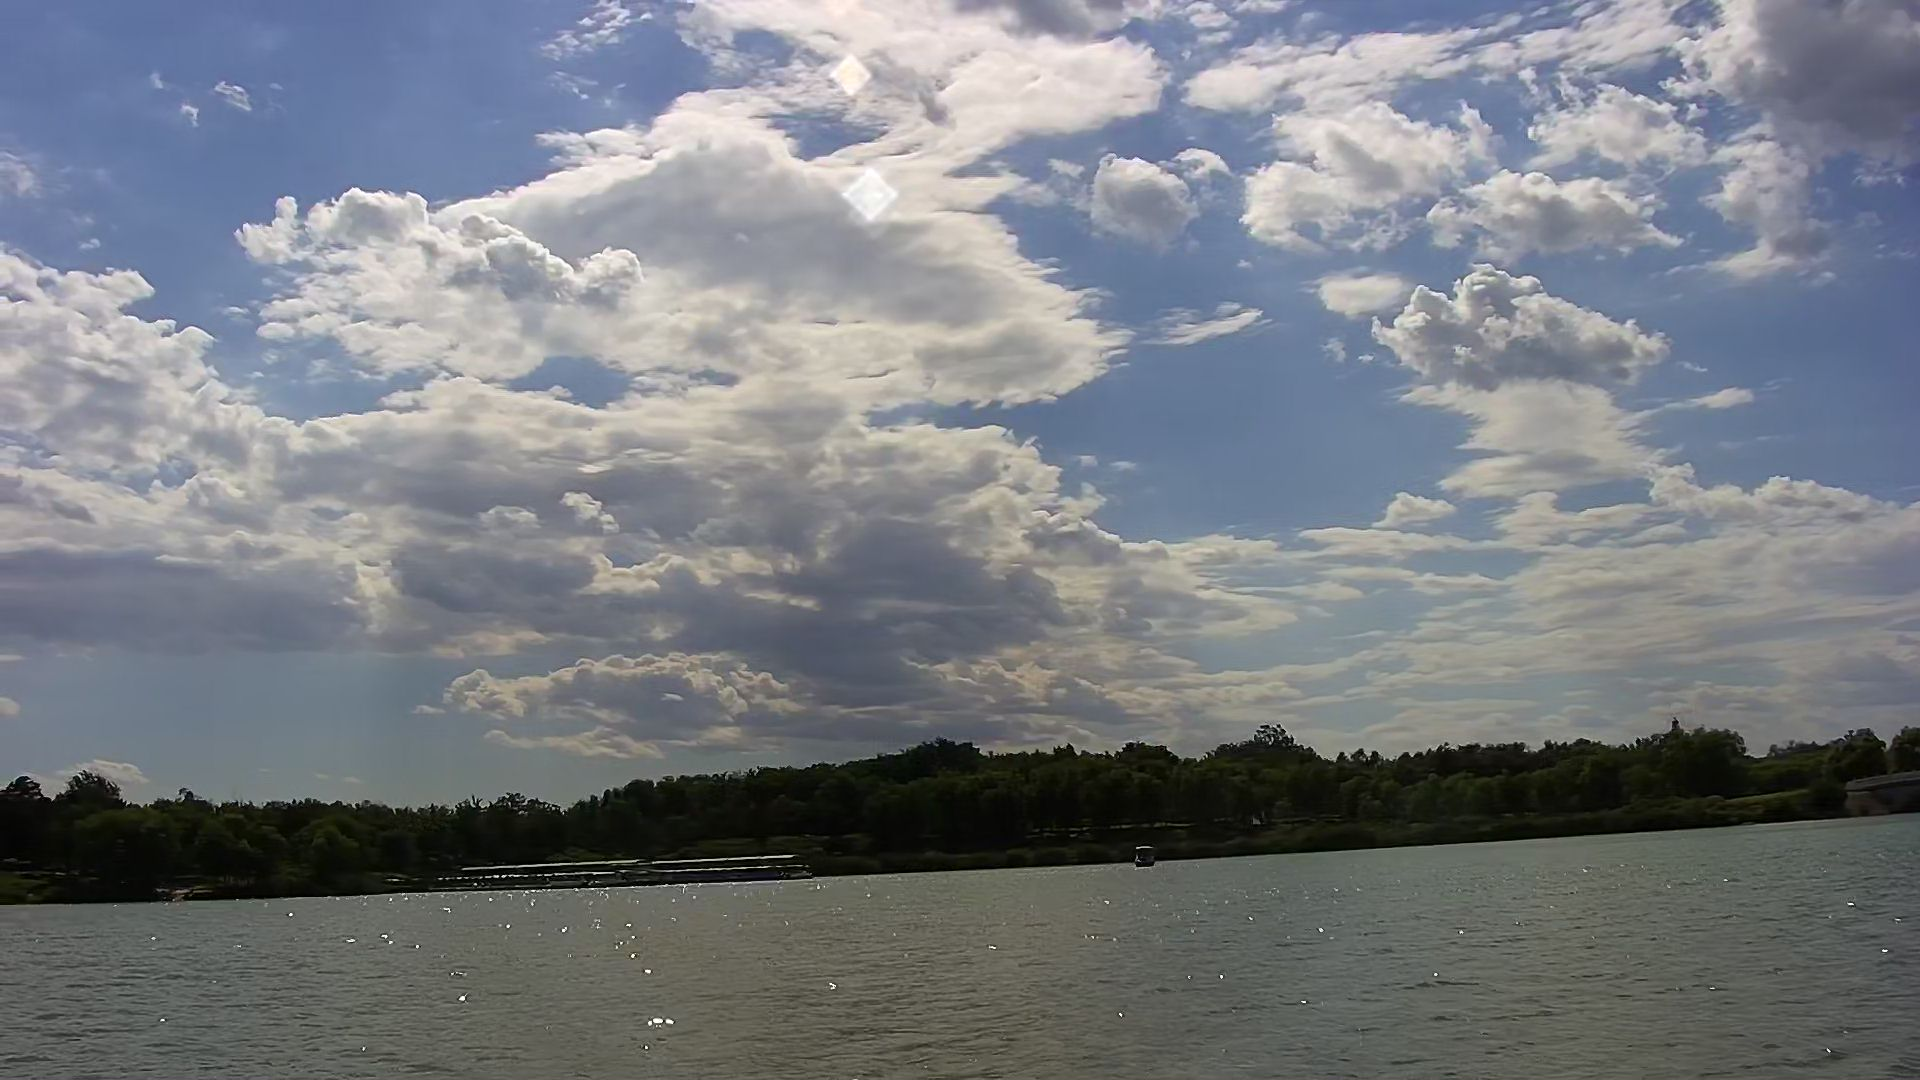boat: (1131, 841, 1160, 870)
harbor: (454, 852, 820, 894)
